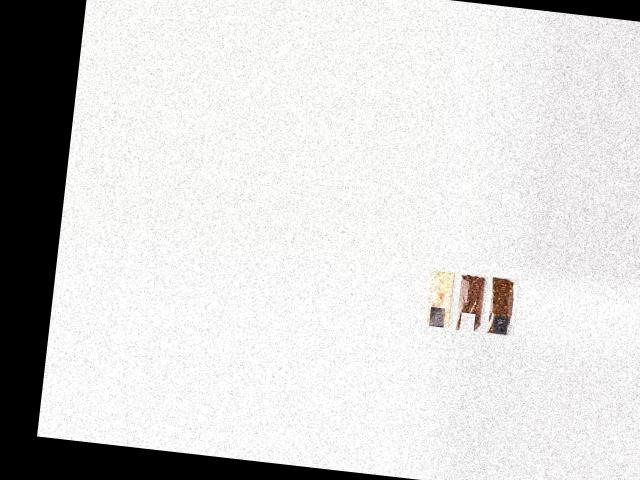chocolate: (484, 271, 525, 335)
